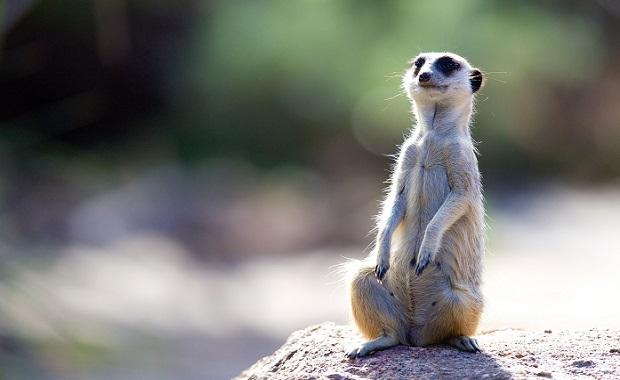meerkat: (342, 41, 502, 366)
